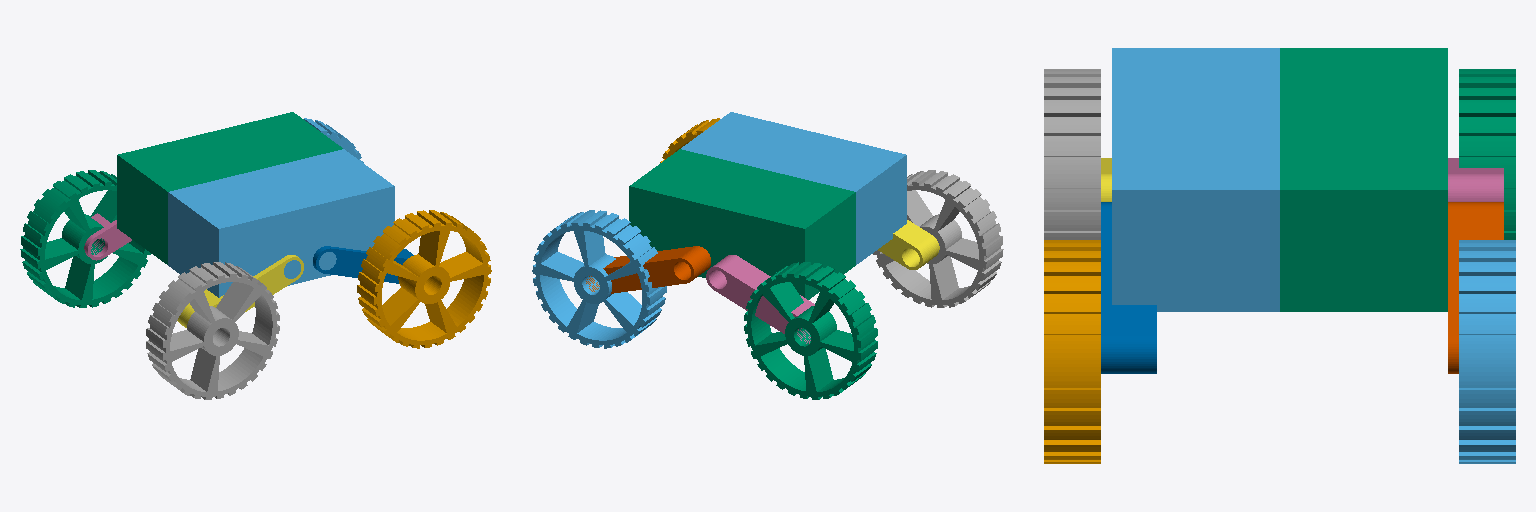
URDF robot description (patasmonkey_v6):
<?xml version="1.0" encoding="utf-8"?>
<robot name="patasmonkey_v6">
	<!-- ① Nav2 / TF のルートとなるフレーム -->
	<!-- inertial / visual / collision を書かなければ、実質「質量ゼロ・大きさゼロ」の仮想リンクとして扱われます -->
	<link name="base_link"/>
	<link name="body_left_link">
		<inertial>
			<mass value="5.977149333128697"/>
			<origin rpy="0 0 0" xyz="2.7075088848408945e-14 -0.07491905752363066 0.05992194832635813"/>
			<inertia ixx="0.018521735026712373" ixy="-5.106774023738348e-15" ixz="1.4632239957780798e-15" iyy="0.05171445416669546" iyz="-3.735988253558275e-05" izz="0.05594377143878953"/>
		</inertial>
		<collision name="body_left_link_collision">
			<origin rpy="0.0 -0.0 0.0" xyz="0.0 0.0 0.0"/>
			<geometry>
				<mesh filename="package://patasmonkey_description/meshes/body_left.stl" scale="0.001 0.001 0.001"/>
			</geometry>
		</collision>
		<visual name="body_left_link_visual">
			<origin rpy="0.0 -0.0 0.0" xyz="0.0 0.0 0.0"/>
			<geometry>
				<mesh filename="package://patasmonkey_description/meshes/body_left.stl" scale="0.001 0.001 0.001"/>
			</geometry>
		</visual>
	</link>
	<link name="body_right_link">
		<inertial>
			<mass value="5.933952434141838"/>
			<origin rpy="0 0 0" xyz="1.0817157499107769e-14 0.06546443954277502 -7.861985990547521e-05"/>
			<inertia ixx="0.018269321974895048" ixy="1.1848658946447257e-14" ixz="-1.474498890486474e-15" iyy="0.05170095487155976" iyz="3.710544736609336e-05" izz="0.05569135865378952"/>
		</inertial>
		<collision name="body_right_link_collision">
			<origin rpy="0.0 -0.0 0.0" xyz="0.0 -0.01 -0.06"/>
			<geometry>
				<mesh filename="package://patasmonkey_description/meshes/body_right.stl" scale="0.001 0.001 0.001"/>
			</geometry>
		</collision>
		<visual name="body_right_link_visual">
			<origin rpy="0.0 -0.0 0.0" xyz="0.0 -0.01 -0.06"/>
			<geometry>
				<mesh filename="package://patasmonkey_description/meshes/body_right.stl" scale="0.001 0.001 0.001"/>
			</geometry>
		</visual>
	</link>
	<link name="wheel_arm_frontleft_link">
		<inertial>
			<mass value="0.06867212404052492"/>
			<origin rpy="0 0 0" xyz="-0.07517540966320621 -0.0050000000000000044 -0.027361611466174954"/>
			<inertia ixx="2.7839444321380923e-05" ixy="0.0" ixz="-4.773177745386561e-05" iyy="0.00016830338776518633" iyz="5.551115123125783e-21" izz="0.0001416084788444838"/>
		</inertial>
		<collision name="wheel_arm_frontleft_link_collision">
			<origin rpy="0.0 -0.3490658503988659 0.0" xyz="0.0 -0.009999999999999981 0.0"/>
			<geometry>
				<mesh filename="package://patasmonkey_description/meshes/wheel_arm.stl" scale="0.001 0.001 0.001"/>
			</geometry>
		</collision>
		<visual name="wheel_arm_frontleft_link_visual">
			<origin rpy="0.0 -0.3490658503988659 0.0" xyz="0.0 -0.009999999999999981 0.0"/>
			<geometry>
				<mesh filename="package://patasmonkey_description/meshes/wheel_arm.stl" scale="0.001 0.001 0.001"/>
			</geometry>
		</visual>
	</link>
	<link name="wheel_arm_rearleft_link">
		<inertial>
			<mass value="0.06867212404052492"/>
			<origin rpy="0 0 0" xyz="0.07517540966253877 -0.004999999999999977 -0.02736161146593201"/>
			<inertia ixx="2.783944432138057e-05" ixy="-1.7763568394002505e-19" ixz="4.773177745386535e-05" iyy="0.00016830338776518668" iyz="0.0" izz="0.0001416084788444831"/>
		</inertial>
		<collision name="wheel_arm_rearleft_link_collision">
			<origin rpy="0.0 0.3490658503988659 0.0" xyz="0.1503508193257451 -0.009999999999999981 -0.05472322293210698"/>
			<geometry>
				<mesh filename="package://patasmonkey_description/meshes/wheel_arm.stl" scale="0.001 0.001 0.001"/>
			</geometry>
		</collision>
		<visual name="wheel_arm_rearleft_link_visual">
			<origin rpy="0.0 0.3490658503988659 0.0" xyz="0.1503508193257451 -0.009999999999999981 -0.05472322293210698"/>
			<geometry>
				<mesh filename="package://patasmonkey_description/meshes/wheel_arm.stl" scale="0.001 0.001 0.001"/>
			</geometry>
		</visual>
	</link>
	<link name="wheel_arm_rearright_link">
		<inertial>
			<mass value="0.06867212404052492"/>
			<origin rpy="0 0 0" xyz="0.07517540966253881 0.004999999999999977 -0.027361611465932023"/>
			<inertia ixx="2.783944432138057e-05" ixy="0.0" ixz="4.773177745386559e-05" iyy="0.00016830338776518633" iyz="0.0" izz="0.00014160847884448345"/>
		</inertial>
		<collision name="wheel_arm_rearright_link_collision">
			<origin rpy="0.0 0.3490658503988659 0.0" xyz="0.15035081932574507 0.0 -0.05472322293210699"/>
			<geometry>
				<mesh filename="package://patasmonkey_description/meshes/wheel_arm.stl" scale="0.001 0.001 0.001"/>
			</geometry>
		</collision>
		<visual name="wheel_arm_rearright_link_visual">
			<origin rpy="0.0 0.3490658503988659 0.0" xyz="0.15035081932574507 0.0 -0.05472322293210699"/>
			<geometry>
				<mesh filename="package://patasmonkey_description/meshes/wheel_arm.stl" scale="0.001 0.001 0.001"/>
			</geometry>
		</visual>
	</link>
	<link name="wheel_arm_frontright_link">
		<inertial>
			<mass value="0.06867212404052492"/>
			<origin rpy="0 0 0" xyz="-0.07517540966320628 0.0050000000000000044 -0.027361611466174968"/>
			<inertia ixx="2.7839444321380214e-05" ixy="-1.7763568394002505e-19" ixz="-4.773177745386547e-05" iyy="0.0001683033877651864" iyz="5.551115123125783e-21" izz="0.0001416084788444831"/>
		</inertial>
		<collision name="wheel_arm_frontright_link_collision">
			<origin rpy="0.0 -0.3490658503988659 0.0" xyz="0.0 0.0 -6.938893903907228e-18"/>
			<geometry>
				<mesh filename="package://patasmonkey_description/meshes/wheel_arm.stl" scale="0.001 0.001 0.001"/>
			</geometry>
		</collision>
		<visual name="wheel_arm_frontright_link_visual">
			<origin rpy="0.0 -0.3490658503988659 0.0" xyz="0.0 0.0 -6.938893903907228e-18"/>
			<geometry>
				<mesh filename="package://patasmonkey_description/meshes/wheel_arm.stl" scale="0.001 0.001 0.001"/>
			</geometry>
		</visual>
	</link>
	<link name="frontleft_wheel_link">
		<inertial>
			<mass value="0.6459736269326636"/>
			<origin rpy="0 0 0" xyz="-8.862355294070312e-14 -0.025000000000000022 -3.235953172087136e-14"/>
			<inertia ixx="0.0020372715927300987" ixy="-2.842170943040401e-18" ixz="1.815529060422705e-13" iyy="0.0038053875071388916" iyz="-7.105427357601002e-19" izz="0.002037271592297401"/>
		</inertial>
		<collision name="frontleft_wheel_link_collision">
			<origin rpy="0.0 -0.34906585039886656 0.0" xyz="0.0 -0.04999999999999999 -3.469446951953614e-18"/>
			<geometry>
				<mesh filename="package://patasmonkey_description/meshes/wheel.stl" scale="0.001 0.001 0.001"/>
			</geometry>
		</collision>
		<visual name="frontleft_wheel_link_visual">
			<origin rpy="0.0 -0.34906585039886656 0.0" xyz="0.0 -0.04999999999999999 -3.469446951953614e-18"/>
			<geometry>
				<mesh filename="package://patasmonkey_description/meshes/wheel.stl" scale="0.001 0.001 0.001"/>
			</geometry>
		</visual>
	</link>
	<link name="rearleft_wheel_link">
		<inertial>
			<mass value="0.6459736269326636"/>
			<origin rpy="0 0 0" xyz="-8.867906409193438e-14 -0.025000000000000022 3.2182589926321725e-14"/>
			<inertia ixx="0.002037271592730113" ixy="-2.842170943040401e-18" ixz="-1.8153585301661223e-13" iyy="0.0038053875071388916" iyz="-3.552713678800501e-19" izz="0.0020372715922973897"/>
		</inertial>
		<collision name="rearleft_wheel_link_collision">
			<origin rpy="0.0 0.3490658503988664 0.0" xyz="0.0 -0.04999999999999999 0.0"/>
			<geometry>
				<mesh filename="package://patasmonkey_description/meshes/wheel.stl" scale="0.001 0.001 0.001"/>
			</geometry>
		</collision>
		<visual name="rearleft_wheel_link_visual">
			<origin rpy="0.0 0.3490658503988664 0.0" xyz="0.0 -0.04999999999999999 0.0"/>
			<geometry>
				<mesh filename="package://patasmonkey_description/meshes/wheel.stl" scale="0.001 0.001 0.001"/>
			</geometry>
		</visual>
	</link>
	<link name="rearright_wheel_link">
		<inertial>
			<mass value="0.6459736269326636"/>
			<origin rpy="0 0 0" xyz="-8.867906409193438e-14 0.024999999999999967 3.2182589926321725e-14"/>
			<inertia ixx="0.002037271592730113" ixy="-2.842170943040401e-18" ixz="-1.8153585301661223e-13" iyy="0.0038053875071388916" iyz="0.0" izz="0.0020372715922973897"/>
		</inertial>
		<collision name="rearright_wheel_link_collision">
			<origin rpy="0.0 0.3490658503988659 0.0" xyz="0.0 0.0 0.0"/>
			<geometry>
				<mesh filename="package://patasmonkey_description/meshes/wheel.stl" scale="0.001 0.001 0.001"/>
			</geometry>
		</collision>
		<visual name="rearright_wheel_link_visual">
			<origin rpy="0.0 0.3490658503988659 0.0" xyz="0.0 0.0 0.0"/>
			<geometry>
				<mesh filename="package://patasmonkey_description/meshes/wheel.stl" scale="0.001 0.001 0.001"/>
			</geometry>
		</visual>
	</link>
	<link name="frontright_wheel_link">
		<inertial>
			<mass value="0.6459736269326636"/>
			<origin rpy="0 0 0" xyz="-8.865130851631875e-14 0.024999999999999994 -3.2356062273919406e-14"/>
			<inertia ixx="0.0020372715927301018" ixy="-2.842170943040401e-18" ixz="1.815525507709026e-13" iyy="0.0038053875071388916" iyz="-7.105427357601002e-19" izz="0.002037271592297401"/>
		</inertial>
		<collision name="frontright_wheel_link_collision">
			<origin rpy="0.0 -0.3490658503988659 0.0" xyz="0.0 0.0 0.0"/>
			<geometry>
				<mesh filename="package://patasmonkey_description/meshes/wheel.stl" scale="0.001 0.001 0.001"/>
			</geometry>
		</collision>
		<visual name="frontright_wheel_link_visual">
			<origin rpy="0.0 -0.3490658503988659 0.0" xyz="0.0 0.0 0.0"/>
			<geometry>
				<mesh filename="package://patasmonkey_description/meshes/wheel.stl" scale="0.001 0.001 0.001"/>
			</geometry>
		</visual>
	</link>

	<!-- ② base_link から body_left_link への固定ジョイント -->
  	<joint name="base_to_body_left" type="fixed">
    	<parent link="base_link"/>
    	<child  link="body_left_link"/>
    	<!-- とりあえず body_left_link の座標系を base_link と一致させる -->
    	<origin xyz="0 0 0" rpy="0 0 0"/>
  	</joint>
	<joint name="rev0" type="continuous">
		<parent link="body_left_link"/>
		<child link="body_right_link"/>
		<origin rpy="0 0 0" xyz="0.0 0.01 0.06"/>
		<axis xyz="0.0 1.0 0.0"/>
	</joint>
	<joint name="rev1" type="continuous">
		<parent link="body_left_link"/>
		<child link="wheel_arm_frontleft_link"/>
		<origin rpy="0 0 0" xyz="-0.029999999999999964 -0.15 0.029999999999999895"/>
		<axis xyz="0.0 1.0 0.0"/>
	</joint>
	<joint name="rev2" type="continuous">
		<parent link="body_left_link"/>
		<child link="wheel_arm_rearleft_link"/>
		<origin rpy="0 0 0" xyz="0.030000000000000054 -0.15 0.029999999999999992"/>
		<axis xyz="0.0 1.0 0.0"/>
	</joint>
	<joint name="rev3" type="continuous">
		<parent link="body_right_link"/>
		<child link="wheel_arm_rearright_link"/>
		<origin rpy="0 0 0" xyz="0.02999999999999993 0.13999999999999996 -0.029999999999999954"/>
		<axis xyz="0.0 -1.0 0.0"/>
	</joint>
	<joint name="rev4" type="continuous">
		<parent link="body_right_link"/>
		<child link="wheel_arm_frontright_link"/>
		<origin rpy="0 0 0" xyz="-0.03 0.13999999999999996 -0.029999999999999992"/>
		<axis xyz="0.0 -1.0 0.0"/>
	</joint>
	<joint name="rev5" type="continuous">
		<parent link="wheel_arm_frontleft_link"/>
		<child link="frontleft_wheel_link"/>
		<origin rpy="0 0 0" xyz="-0.15035081932574496 -0.00999999999999987 -0.054723222932106956"/>
		<axis xyz="0.0 -0.9999999999999978 0.0"/>
	</joint>
	<joint name="rev6" type="continuous">
		<parent link="wheel_arm_rearleft_link"/>
		<child link="rearleft_wheel_link"/>
		<origin rpy="0 0 0" xyz="0.15035081932574518 -0.00999999999999987 -0.05472322293210702"/>
		<axis xyz="0.0 -0.9999999999999987 0.0"/>
	</joint>
	<joint name="rev7" type="continuous">
		<parent link="wheel_arm_rearright_link"/>
		<child link="rearright_wheel_link"/>
		<origin rpy="0 0 0" xyz="0.1503508193257454 0.009999999999999953 -0.05472322293210703"/>
		<axis xyz="0.0 -0.9999999999999981 0.0"/>
	</joint>
	<joint name="rev8" type="continuous">
		<parent link="wheel_arm_frontright_link"/>
		<child link="frontright_wheel_link"/>
		<origin rpy="0 0 0" xyz="-0.15035081932574537 0.009999999999999981 -0.054723222932107005"/>
		<axis xyz="0.0 -0.9999999999999982 0.0"/>
	</joint>
</robot>

--- Facts derived from the render (not from the file) ---
3 views of the same robot in one strip: view 1: azimuth 30°, elevation 25°; view 2: azimuth 150°, elevation 25°; view 3: azimuth 270°, elevation 25° (orthographic).
Model patasmonkey_v6 with 11 links and 10 joints (9 continuous, 1 fixed), rooted at base_link, posed all joints at 0.
Links seen in each view (by area): view 1: body_left_link, body_right_link, frontleft_wheel_link, rearleft_wheel_link, frontright_wheel_link, wheel_arm_rearleft_link, wheel_arm_frontleft_link, wheel_arm_frontright_link, rearright_wheel_link; view 2: body_right_link, body_left_link, frontright_wheel_link, rearright_wheel_link, frontleft_wheel_link, wheel_arm_frontright_link, wheel_arm_rearright_link, wheel_arm_frontleft_link, rearleft_wheel_link; view 3: body_right_link, body_left_link, rearleft_wheel_link, rearright_wheel_link, frontleft_wheel_link, frontright_wheel_link, wheel_arm_rearleft_link, wheel_arm_rearright_link, wheel_arm_frontright_link.
Boxes of the visible links, left/top/right/bottom form: body_left_link: left=168, top=149, right=394, bottom=297; body_right_link: left=117, top=112, right=342, bottom=264; frontleft_wheel_link: left=146, top=262, right=279, bottom=399; rearleft_wheel_link: left=357, top=210, right=491, bottom=348; frontright_wheel_link: left=20, top=170, right=150, bottom=307; wheel_arm_rearleft_link: left=313, top=246, right=413, bottom=283; wheel_arm_frontleft_link: left=177, top=255, right=303, bottom=327; wheel_arm_frontright_link: left=84, top=213, right=131, bottom=260; rearright_wheel_link: left=304, top=118, right=363, bottom=162; body_right_link: left=629, top=149, right=855, bottom=299; body_left_link: left=681, top=112, right=906, bottom=264; frontright_wheel_link: left=744, top=262, right=877, bottom=399; rearright_wheel_link: left=532, top=210, right=666, bottom=348; frontleft_wheel_link: left=873, top=170, right=1003, bottom=307; wheel_arm_frontright_link: left=706, top=255, right=814, bottom=343; wheel_arm_rearright_link: left=586, top=246, right=710, bottom=293; wheel_arm_frontleft_link: left=878, top=220, right=939, bottom=269; rearleft_wheel_link: left=660, top=118, right=719, bottom=162; body_right_link: left=1280, top=48, right=1447, bottom=311; body_left_link: left=1112, top=48, right=1279, bottom=311; rearleft_wheel_link: left=1044, top=240, right=1100, bottom=463; rearright_wheel_link: left=1459, top=240, right=1515, bottom=463; frontleft_wheel_link: left=1044, top=69, right=1100, bottom=239; frontright_wheel_link: left=1459, top=69, right=1515, bottom=239; wheel_arm_rearleft_link: left=1101, top=202, right=1156, bottom=373; wheel_arm_rearright_link: left=1448, top=202, right=1503, bottom=373; wheel_arm_frontright_link: left=1448, top=158, right=1503, bottom=201.
Bounding box of the posed robot: 0.5606 × 0.42 × 0.2447 m (x, y, z).
Meshes: 4 distinct files referenced, 10 mesh visuals loaded (4 binary STL).
